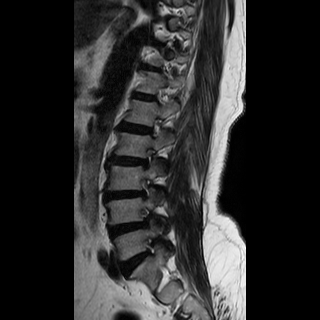LFS3: (133, 174, 158, 201), (136, 143, 158, 173)
